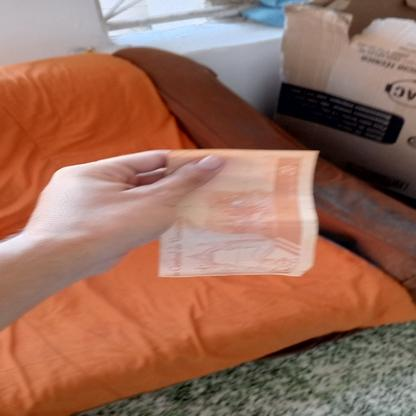vef_back: (158, 149, 319, 278)
